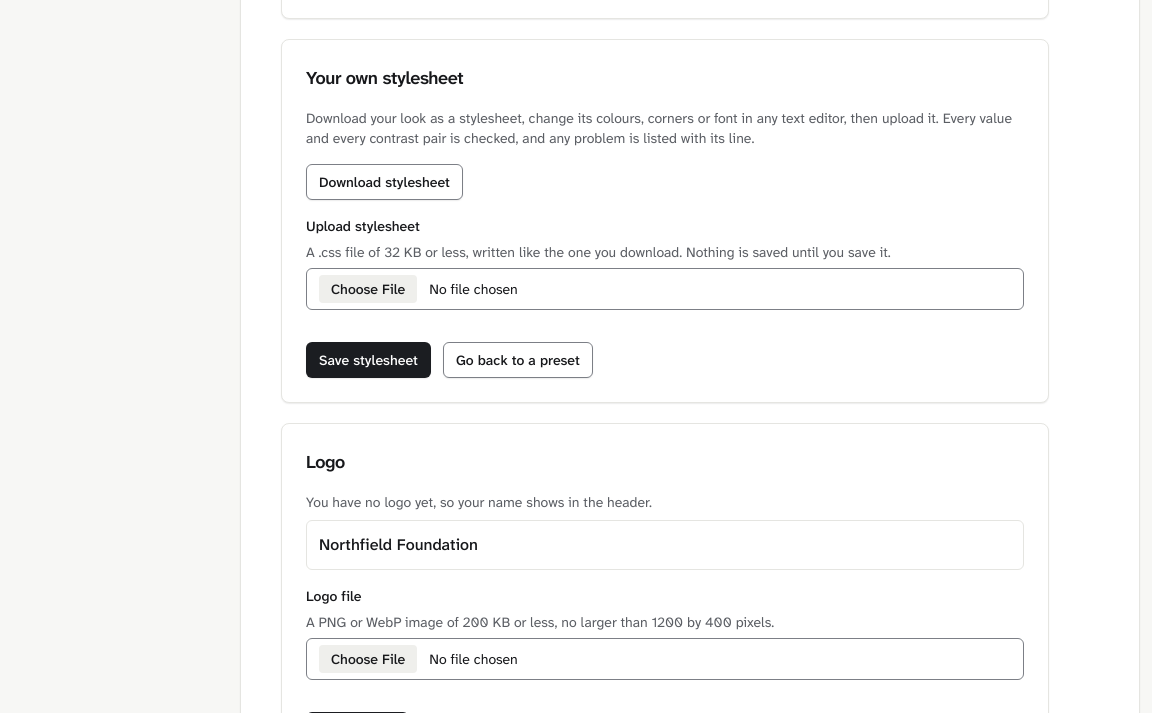
Test: the page while a stylesheet is in use › asks before going back to a preset, and keeps the stylesheet if told to
The image size is (1152, 713).
(page scrolled)
Expected: the file field labelled "Upload stylesheet" is shown, 306,268 -> 1024,310
Click the button "Go back to a preset": (518, 360) 443,342 -> 593,378
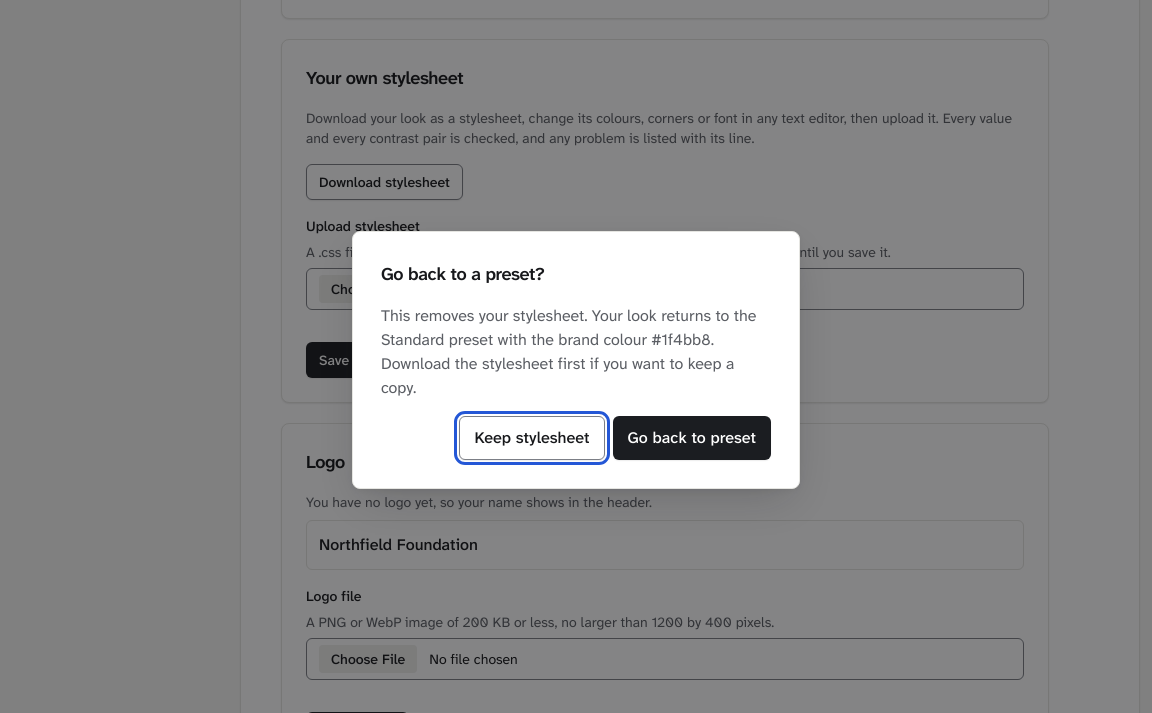
Result: the text "Standard preset with the brand colour #1f4bb8" is shown at 381,305 -> 756,398
Click the button "Keep stylesheet": (532, 438) 460,416 -> 605,460
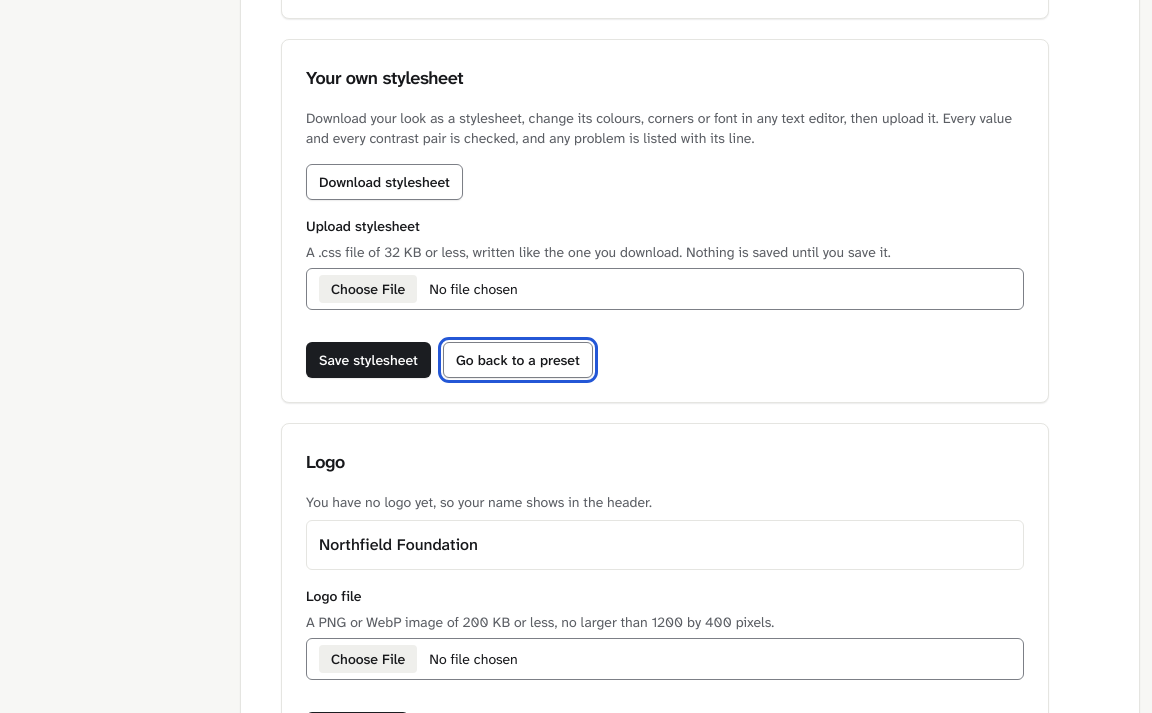
Result: the dialog is gone
